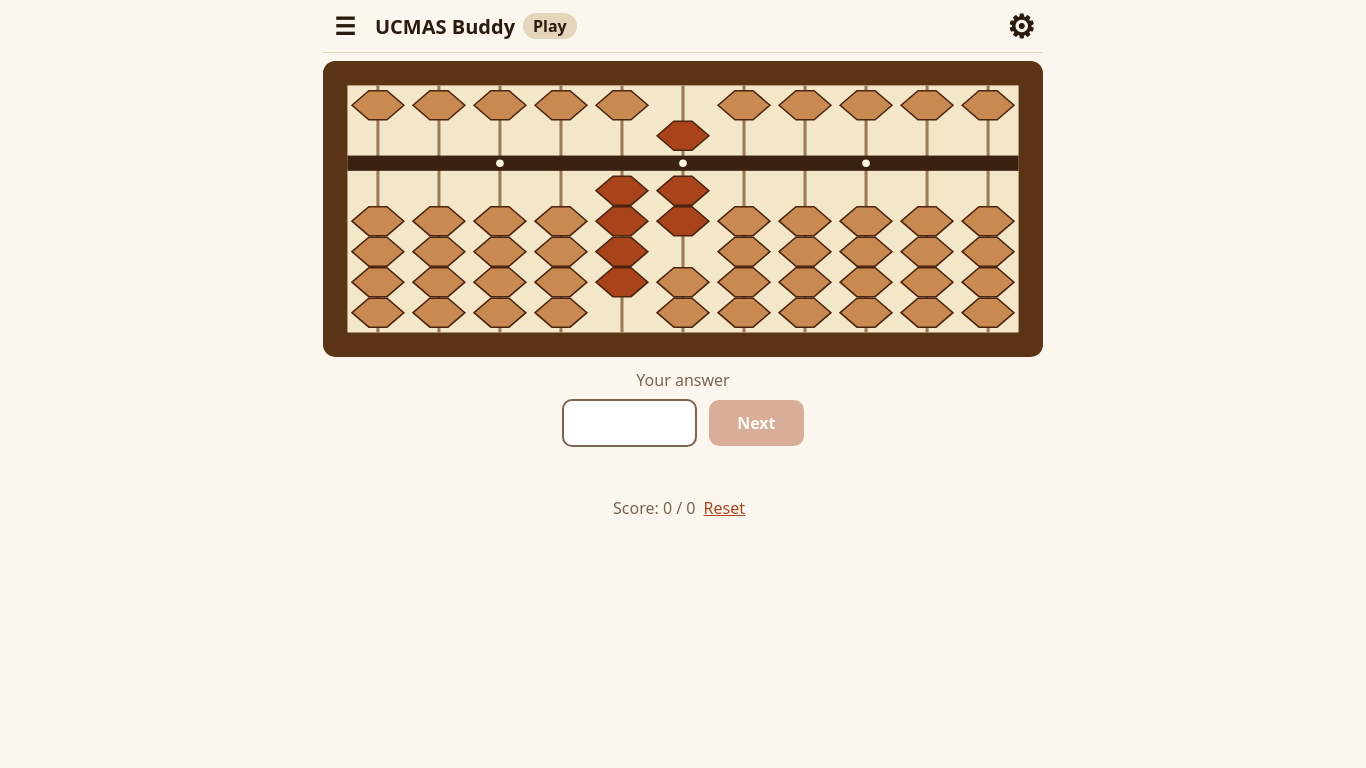
Test case: <App> › vanish settings (AC5) › shows the value while dragging
Click the button named "open settings": (1021, 26) x1=999 y1=4 x2=1043 y2=48
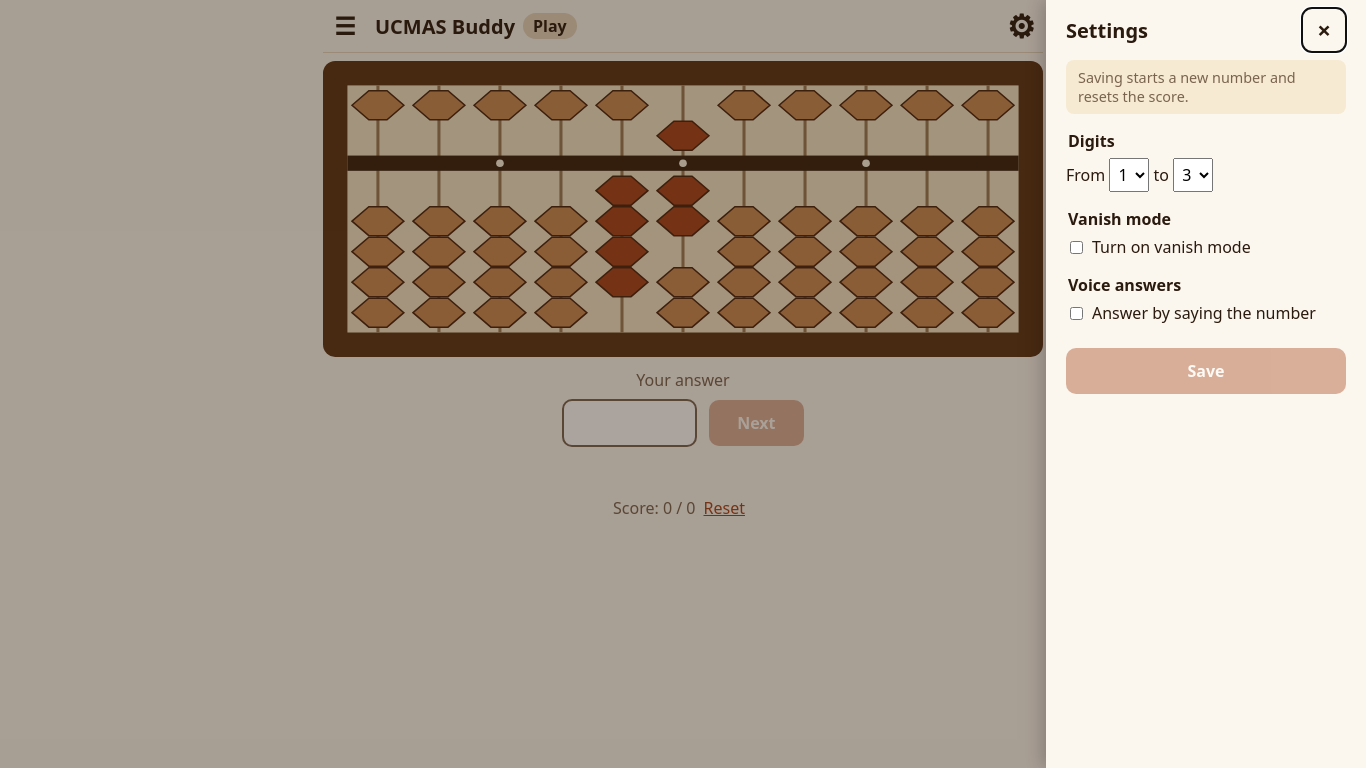
Click the checkbox labelled "Turn on vanish mode": (1076, 247) x1=1070 y1=240 x2=1083 y2=254
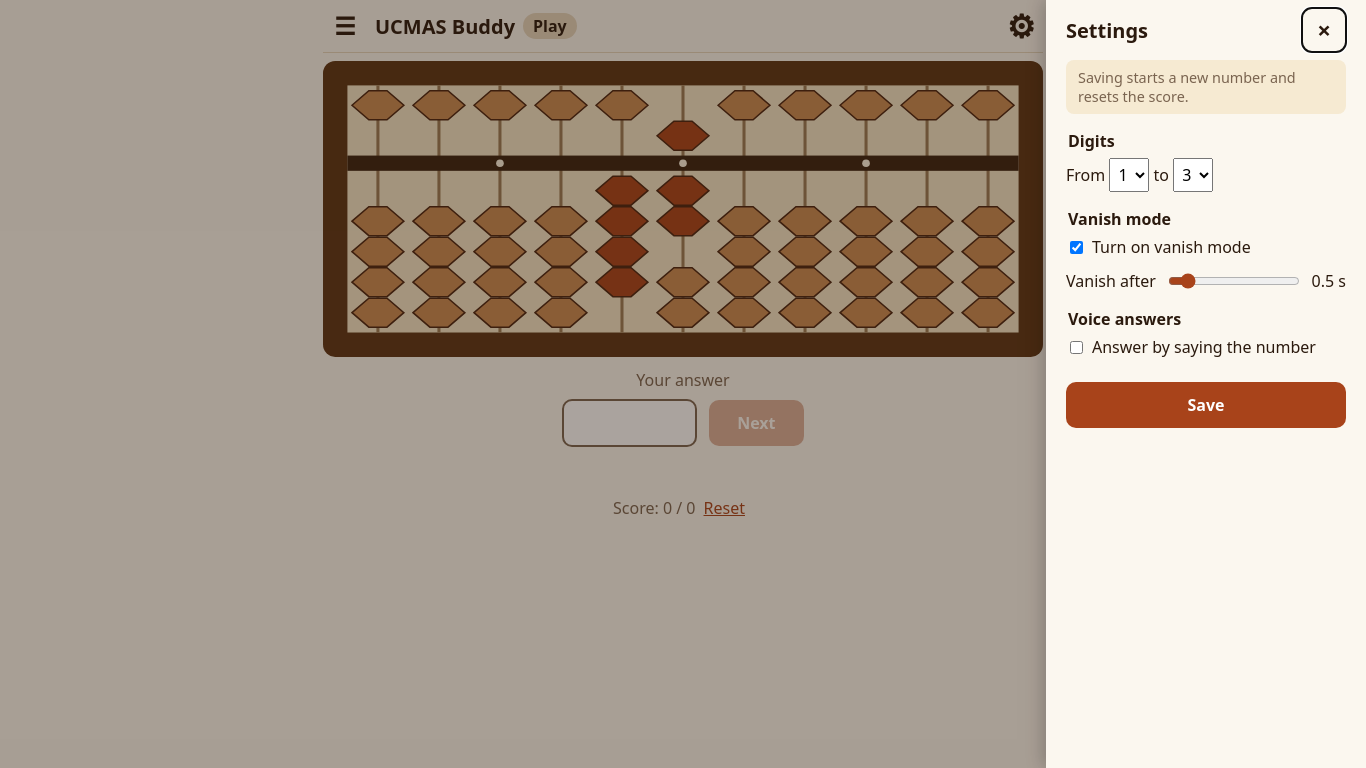
Set the slider labelled "Vanish after 0.5 s" to "1.2": (1217, 281) x1=1168 y1=273 x2=1300 y2=289
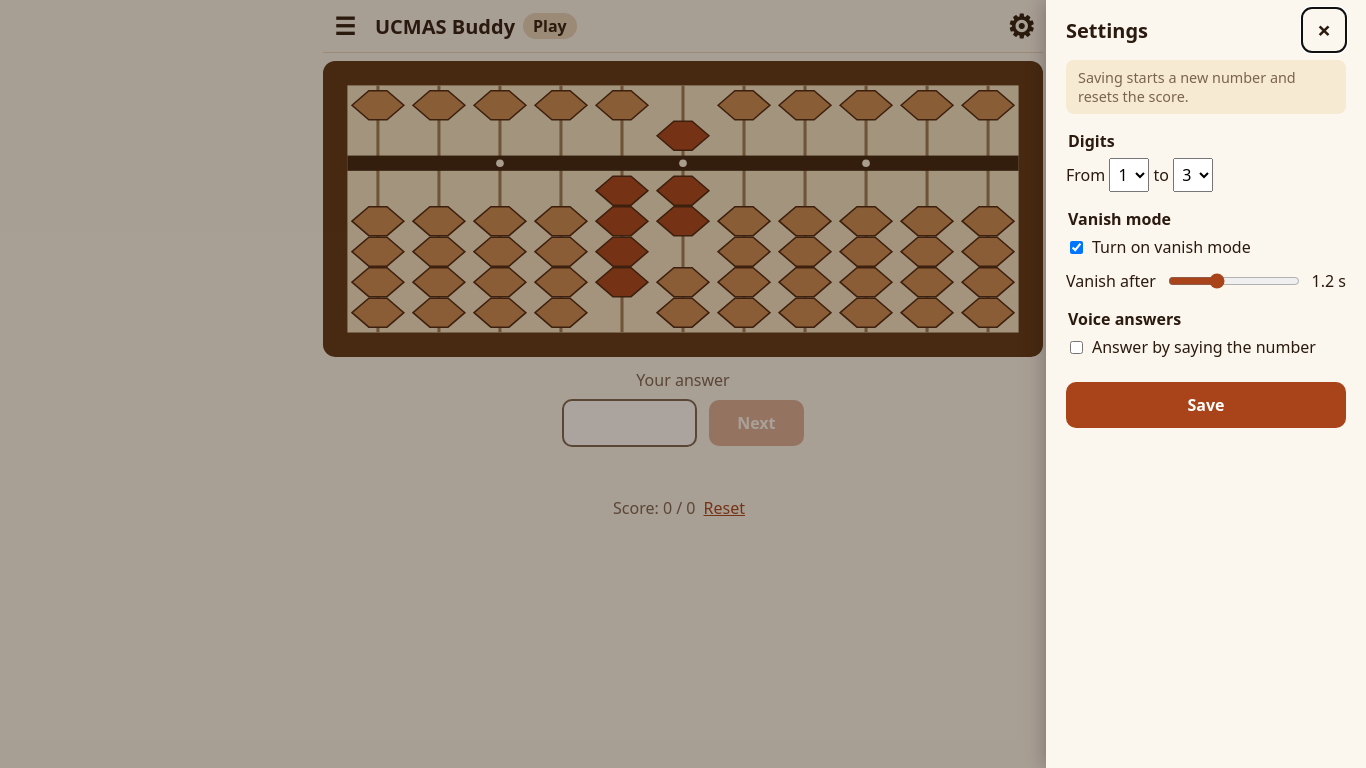
Now the text "1.2 s" is shown, box x1=1312 y1=270 x2=1346 y2=292
